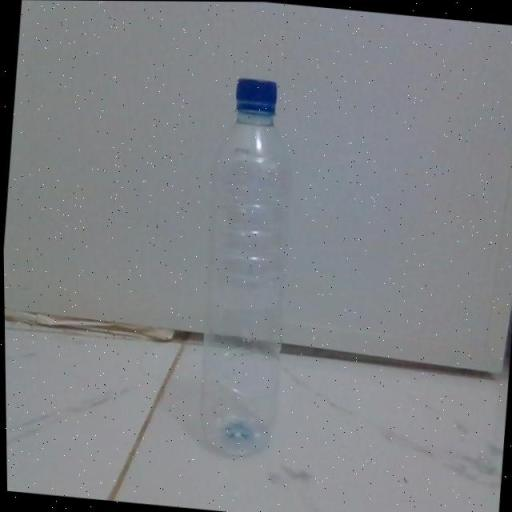plastic: (178, 73, 307, 461)
